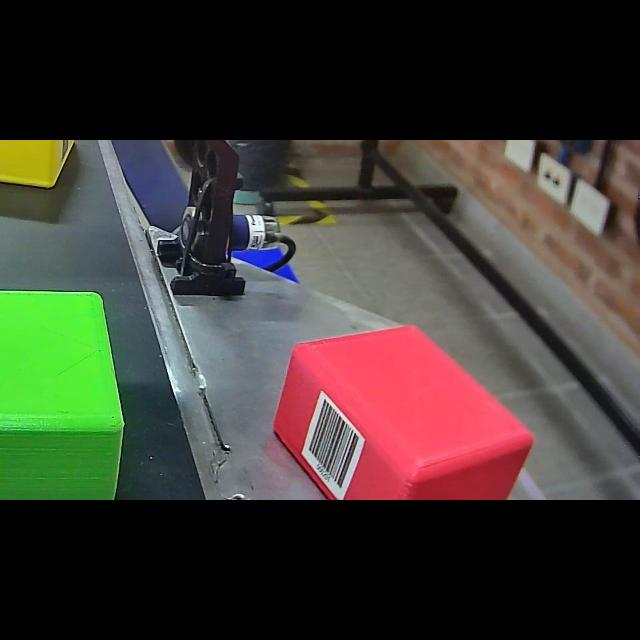greenBox: (0, 276, 134, 500)
redBox: (265, 318, 543, 500)
yellowBox: (0, 140, 84, 198)
